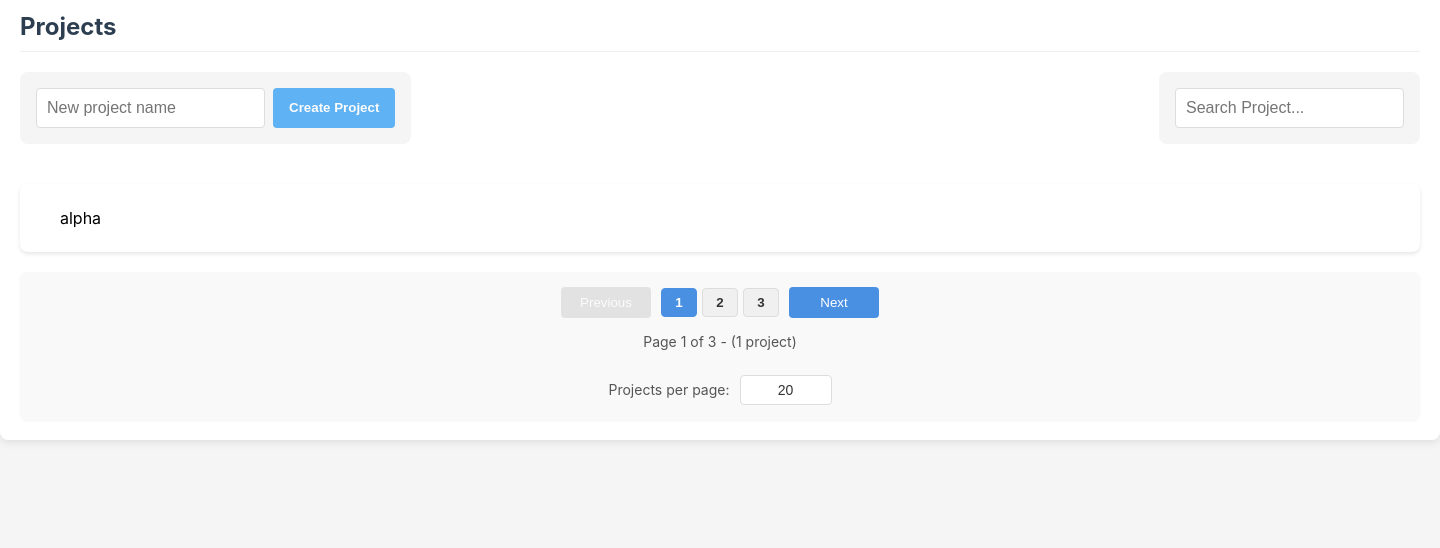
Test: ProjectOverview › reloads on the first page after a project was created
This screenshot has width=1440, height=548.
Expected: the text "alpha" is shown, [20, 184, 1420, 252]
go to page 2 first, so the reset to page 1 is visible
Click the button "2" at (720, 302), box [702, 288, 738, 317]
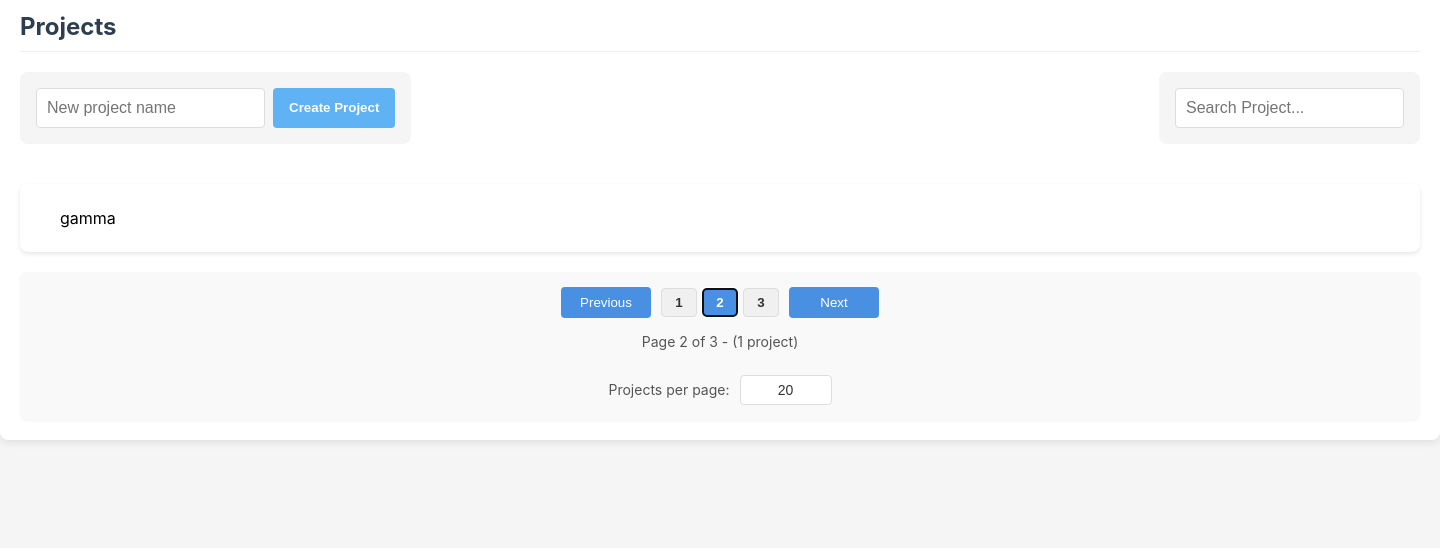
Now the text "gamma" is shown, box [20, 184, 1420, 252]
Type "beta" into the field with placeholder "New project name" at (150, 108), box [36, 88, 265, 128]
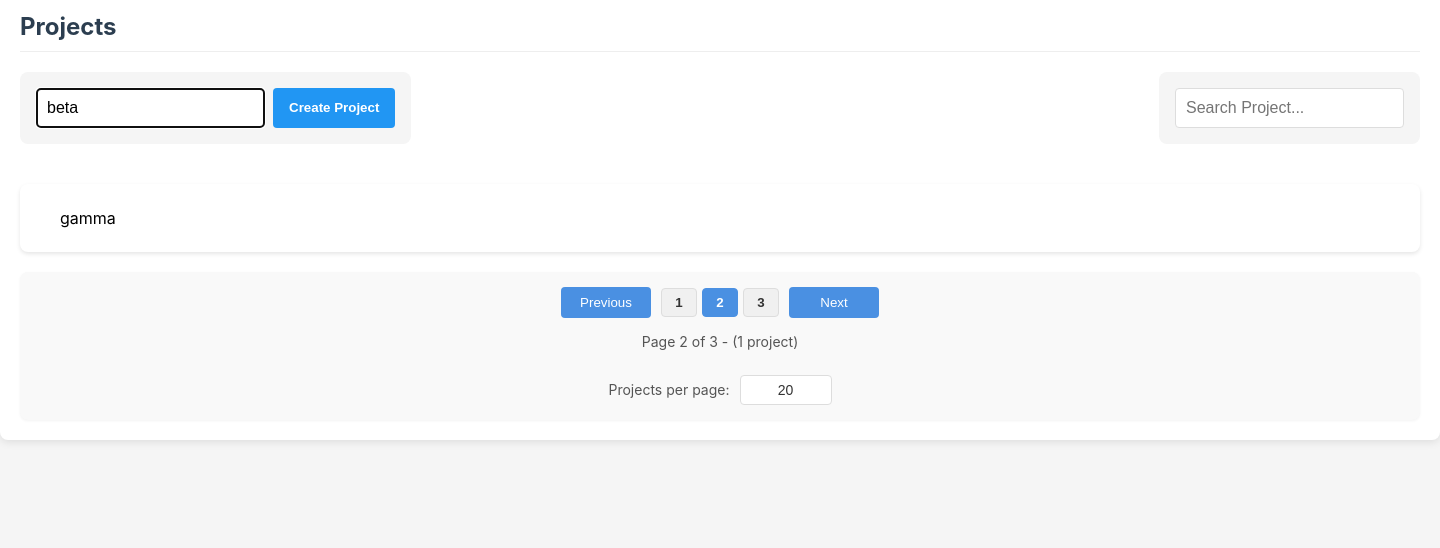
Click the button "Create Project" at (334, 108), box [273, 88, 395, 128]
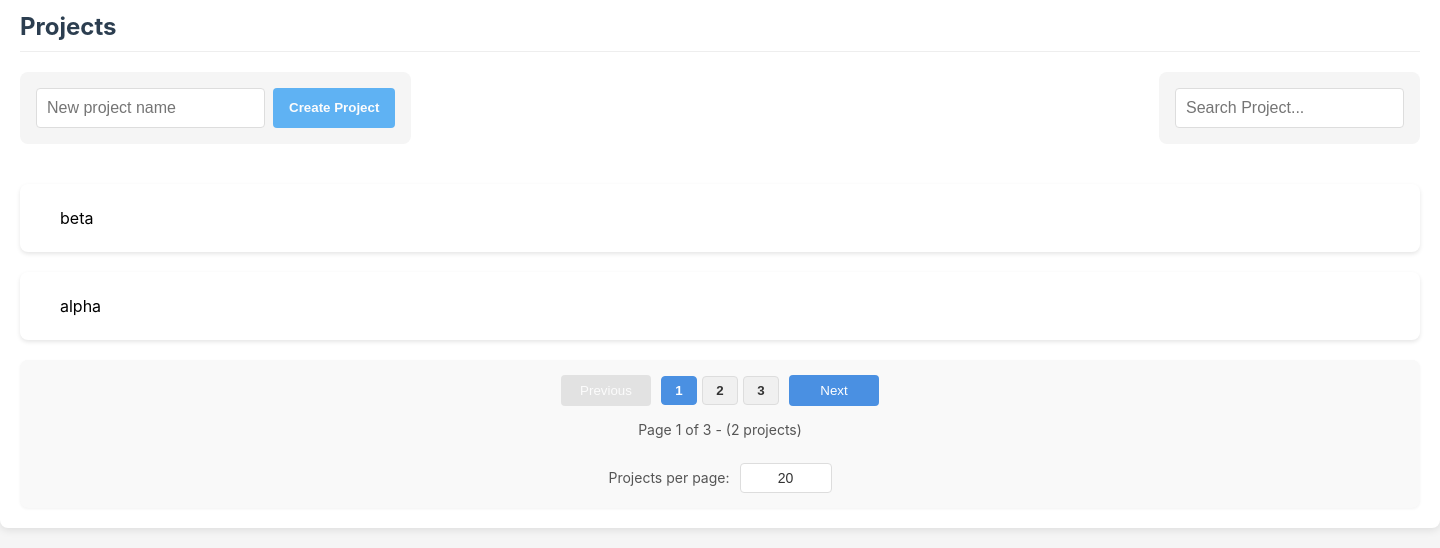
Now the text "beta" is shown, box [20, 184, 1420, 252]
Now the text "gamma" is gone
